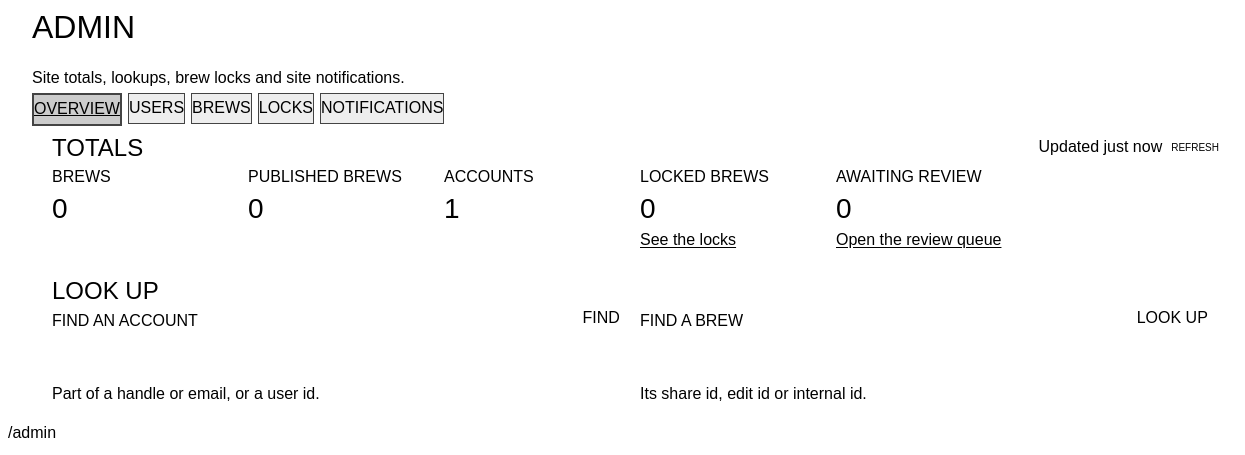
Test: access › refreshes the totals on demand
This screenshot has width=1245, height=455.
Expected: the text with test id "admin-stat-users-value" reads "1", [444,193,460,224]
What coordinates should you click on to do the following:
click the button with test id "admin-stats-refresh"
I would click on:
 (1195, 148)
Its box is [1162,141,1228,155].
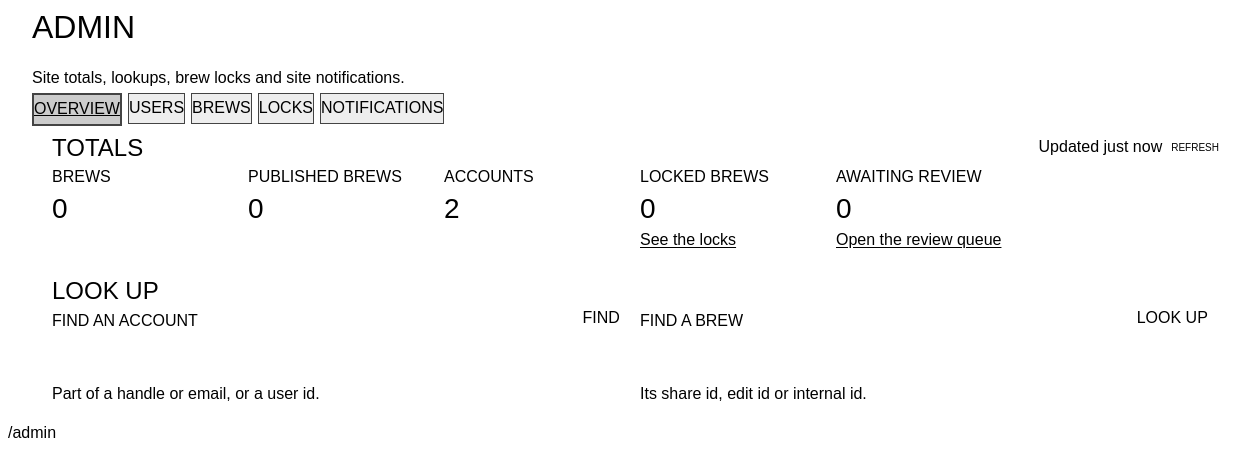
Result: the text with test id "admin-stat-users-value" reads "2" at [444,193,460,224]
